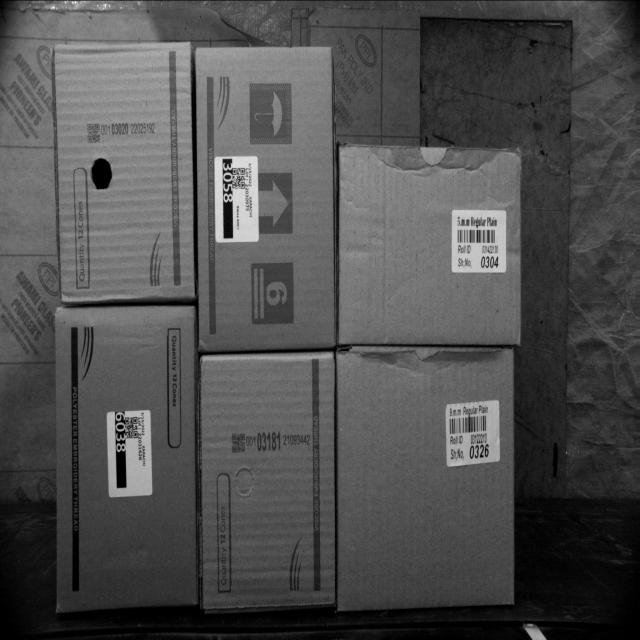cardboxes: (337, 348, 516, 615), (56, 301, 196, 620), (197, 47, 337, 354), (336, 144, 523, 348), (52, 43, 194, 301), (201, 351, 336, 612)
